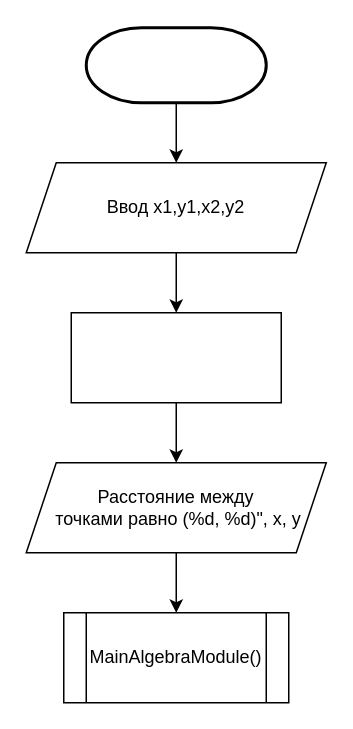
This 353x729 diagram has some shape labels left out. Here are the shapes that lost their labels. From the top down, the centre of each, then its label:
At point (175, 65): "Начало".
At point (175, 357): "x = abs(x2 - x1); y = abs(y2 - y1);".
